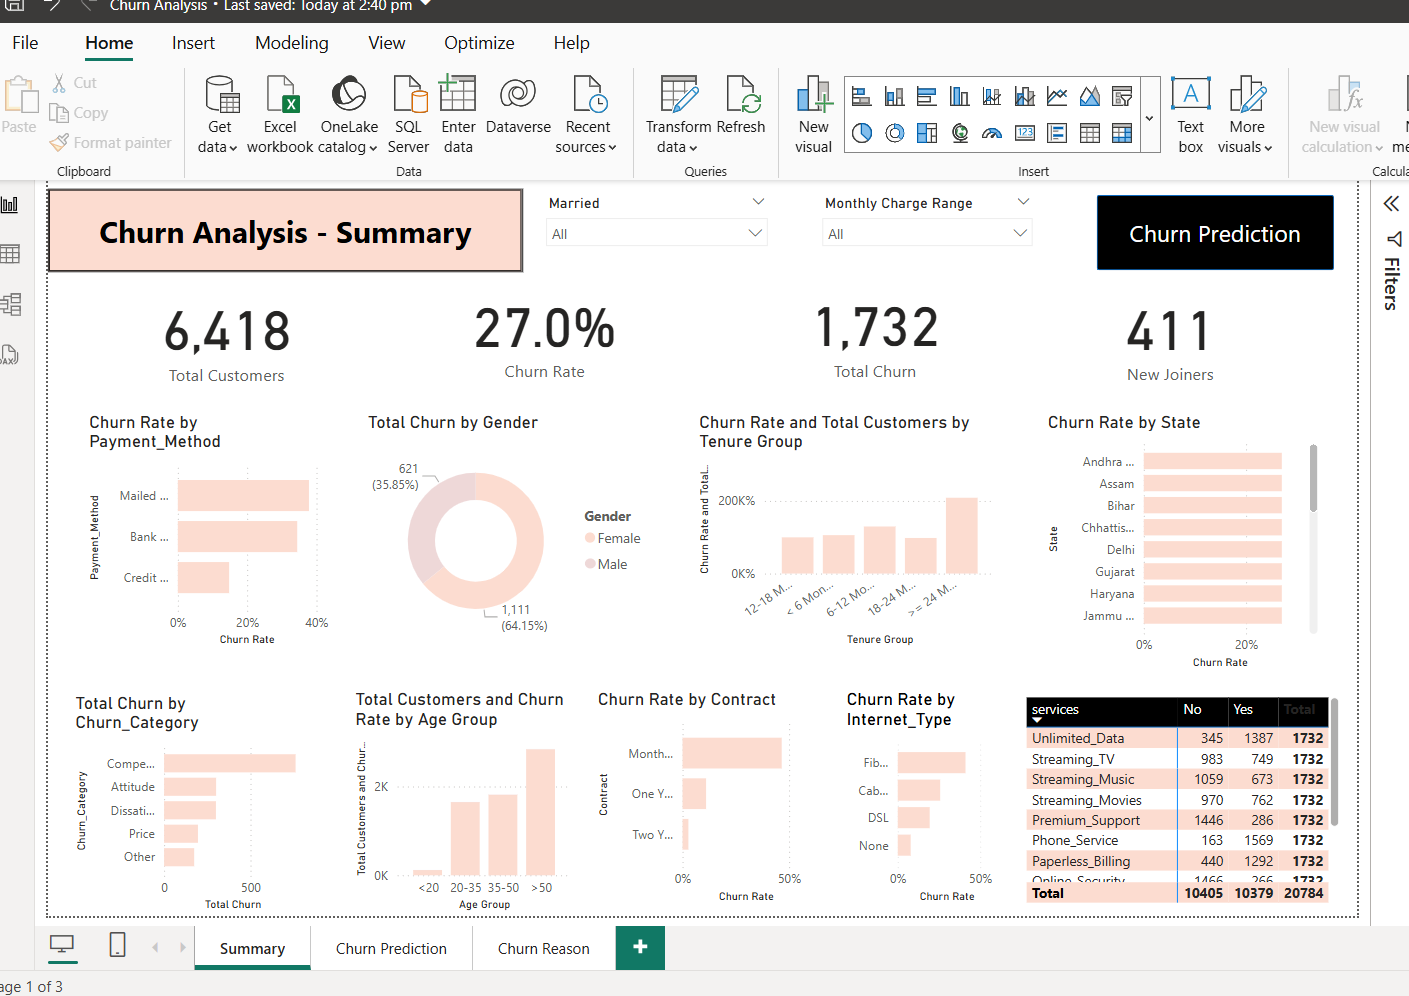

What the dashboard file says about the page in this screenshot:
{"tool":"powerbi","page":{"name":"Summary","canvas":[1280,720],"ordinal":0},"visuals":[{"type":"card","fields":{"Values":["Table_Measures.Total Churn"]},"box":[701.9,90.5,215.2,114.9],"z":0},{"type":"card","fields":{"Values":["Table_Measures.New Joiners"]},"box":[1006.4,101.5,183.4,99],"z":1000},{"type":"card","fields":{"Values":["Table_Measures.Churn Rate"]},"box":[397.4,89.3,177.3,118.6],"z":2000},{"type":"card","fields":{"Values":["Table_Measures.Total Customers"]},"box":[85.6,90.5,178.5,122.3],"z":3000},{"type":"donutChart","title":"Total Churn by Gender","fields":{"Category":["prod_Churn.Gender"],"Y":["Table_Measures.Total Churn"]},"box":[308.2,226.2,287.4,234.8],"z":4000},{"type":"columnChart","fields":{"Category":["mapping_agegrp.Age Group "],"Y":["Table_Measures.Total Customers","Table_Measures.Churn Rate"]},"box":[295.9,497.7,221.3,222.6],"z":5000},{"type":"clusteredBarChart","fields":{"Category":["prod_Churn.Payment_Method"],"Y":["Table_Measures.Churn Rate"]},"box":[35.5,226.2,244.6,234.8],"z":6000},{"type":"clusteredBarChart","fields":{"Category":["prod_Churn.Contract"],"Y":["Table_Measures.Churn Rate"]},"box":[533.2,497.7,229.9,214],"z":7000},{"type":"columnChart","fields":{"Y":["Table_Measures.Churn Rate","Table_Measures.Total Customers"],"Category":["mapping_tenuregrp.Tenure Group"]},"box":[632.2,226.2,299.6,234.8],"z":8000},{"type":"clusteredBarChart","fields":{"Category":["prod_Churn.Churn_Category"],"Y":["Table_Measures.Total Churn"]},"box":[22,501.4,242.1,218.9],"z":9000},{"type":"clusteredBarChart","fields":{"Category":["prod_Churn.Internet_Type"],"Y":["Table_Measures.Churn Rate"]},"box":[776.5,497.7,168.8,214],"z":10000},{"type":"pivotTable","fields":{"Rows":["prod_services.services"],"Columns":["prod_services.status"],"Values":["Sum(prod_services.Churn Status)"]},"box":[952.6,501.4,315.5,210.3],"z":11000},{"type":"slicer","fields":{"Values":["prod_services.Monthly Charge Status"]},"box":[747.2,8.6,226.2,67.3],"z":12000},{"type":"slicer","fields":{"Values":["prod_services.Married"]},"box":[476.9,8.6,237.2,67.3],"z":13000},{"type":"clusteredBarChart","fields":{"Category":["prod_services.State"],"Y":["Table_Measures.Churn Rate"]},"box":[973.4,226.2,273.9,256.8],"z":14000},{"type":"shape","box":[1025.4,14.2,231.8,74],"z":15000},{"type":"shape","box":[0,8.6,464.7,81.9],"z":16000}]}

Visuals, with their boxes on the page's 1280x720 design canvas (x1, y1, x2, y2). These are canvas units, not pixel positions in the 1409x996 screenshot, which may show the page scaled, cropped or inside an application window:
card - Table_Measures.Total Churn: <box>702,90,917,205</box>
card - Table_Measures.New Joiners: <box>1006,102,1190,200</box>
card - Table_Measures.Churn Rate: <box>397,89,575,208</box>
card - Table_Measures.Total Customers: <box>86,90,264,213</box>
"Total Churn by Gender" donutChart: <box>308,226,596,461</box>
columnChart - mapping_agegrp.Age Group  x Table_Measures.Total Customers: <box>296,498,517,720</box>
clusteredBarChart - prod_Churn.Payment_Method x Table_Measures.Churn Rate: <box>36,226,280,461</box>
clusteredBarChart - prod_Churn.Contract x Table_Measures.Churn Rate: <box>533,498,763,712</box>
columnChart - Table_Measures.Churn Rate x Table_Measures.Total Customers: <box>632,226,932,461</box>
clusteredBarChart - prod_Churn.Churn_Category x Table_Measures.Total Churn: <box>22,501,264,720</box>
clusteredBarChart - prod_Churn.Internet_Type x Table_Measures.Churn Rate: <box>776,498,945,712</box>
pivotTable - prod_services.services x prod_services.status: <box>953,501,1268,712</box>
slicer - prod_services.Monthly Charge Status: <box>747,9,973,76</box>
slicer - prod_services.Married: <box>477,9,714,76</box>
clusteredBarChart - prod_services.State x Table_Measures.Churn Rate: <box>973,226,1247,483</box>
shape: <box>1025,14,1257,88</box>
shape: <box>0,9,465,90</box>
